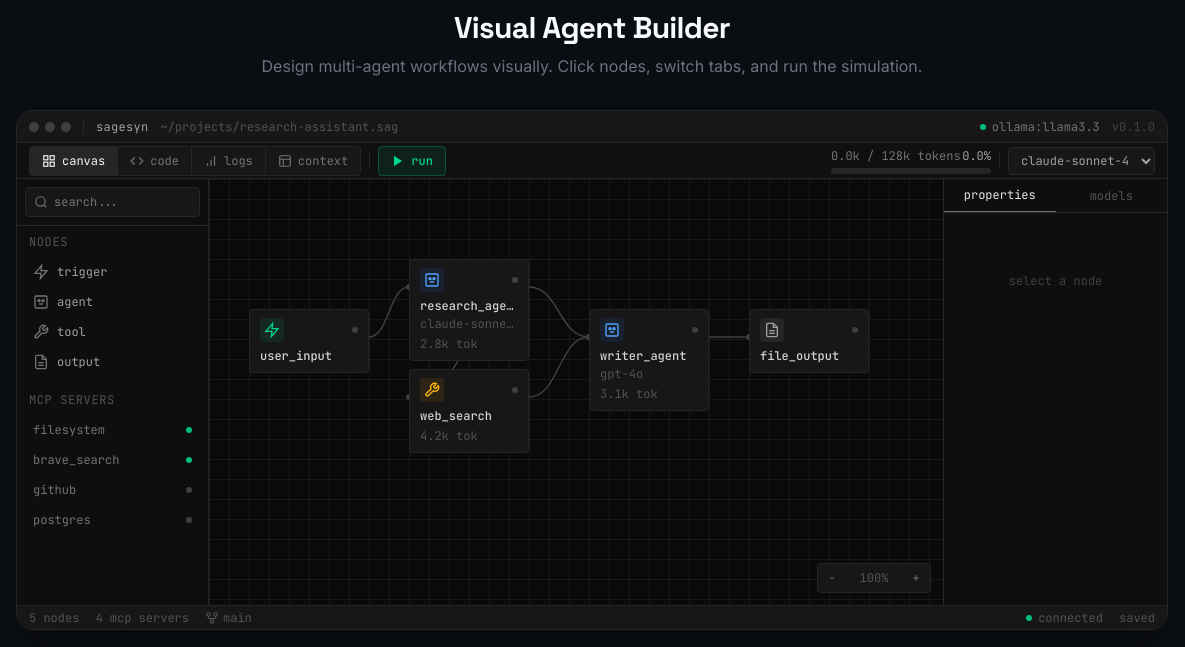
Test: IDEPreview › switches to logs tab when clicked
Click the button "logs".
click(229, 160)  # box 192,146 -> 266,174
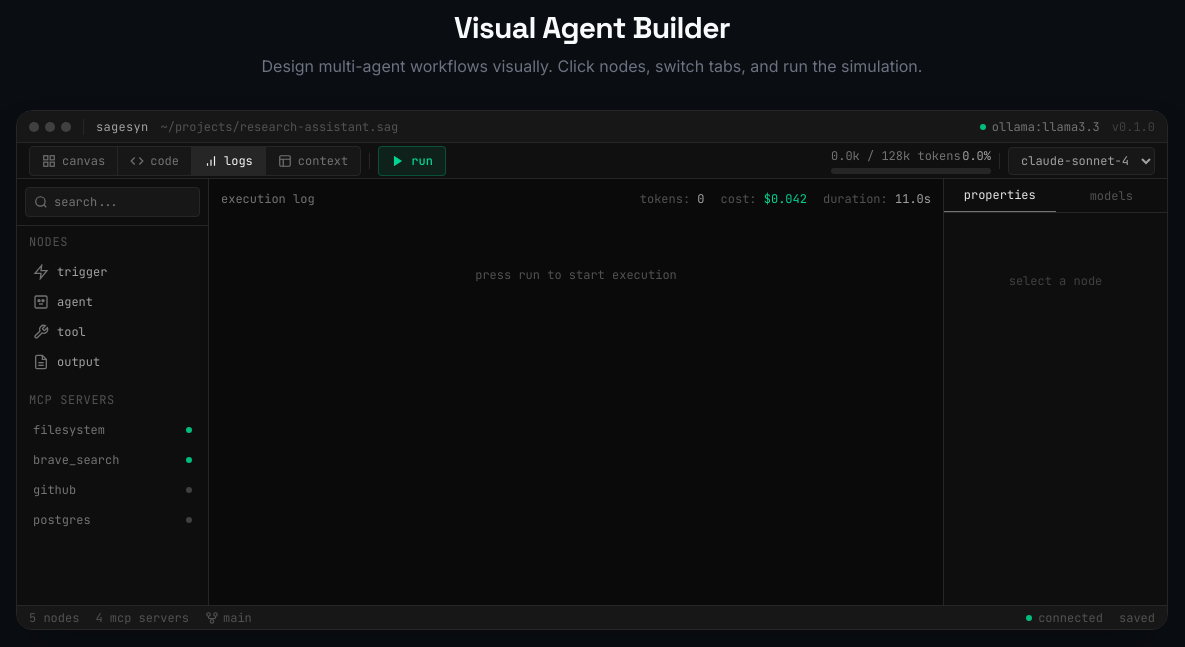
Now the text "execution log" is shown, box 221,191 -> 315,207
Now the text "press run to start execution" is shown, box 475,267 -> 677,283
